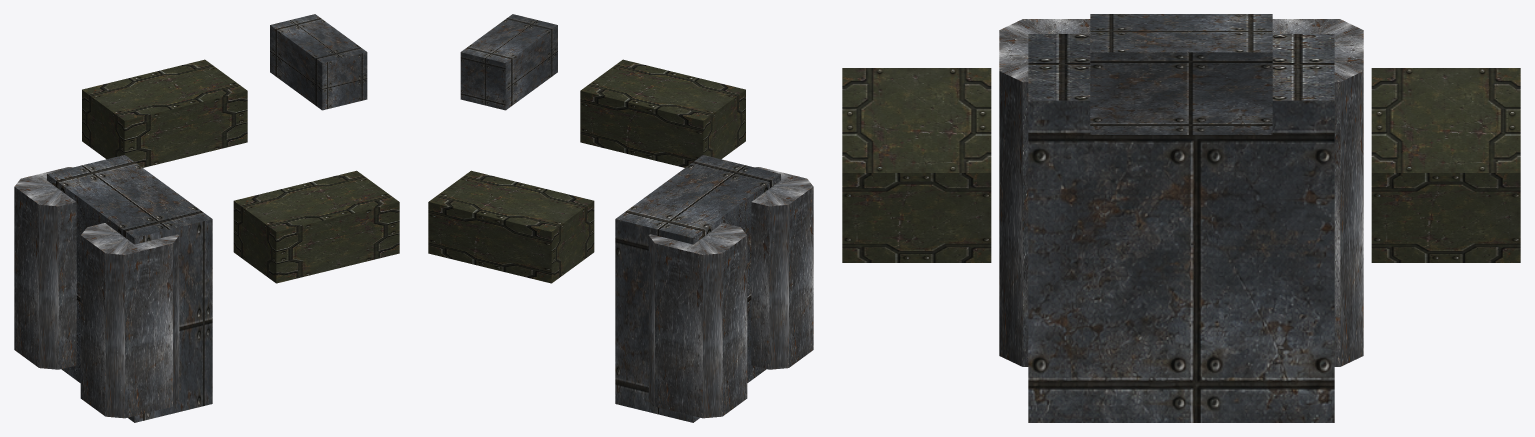
The model's file is warden-gear.obj.
3 renders of one model, left to right at view 1: azimuth 30°, elevation 25°; view 2: azimuth 150°, elevation 25°; view 3: azimuth 270°, elevation 25°, orthographic. The views are drawn at different scales.
Parts seen in each view (by area): view 1: warden-gear; view 2: warden-gear; view 3: warden-gear.
Boxes of the visible parts, x1,y1,x2,y2 form: warden-gear: (14,14,399,422); warden-gear: (428,14,813,422); warden-gear: (842,14,1520,422).
Bounding box in the file's own units: 0.685 × 0.69 × 0.82.
Materials: 1 (1 with a texture image).
